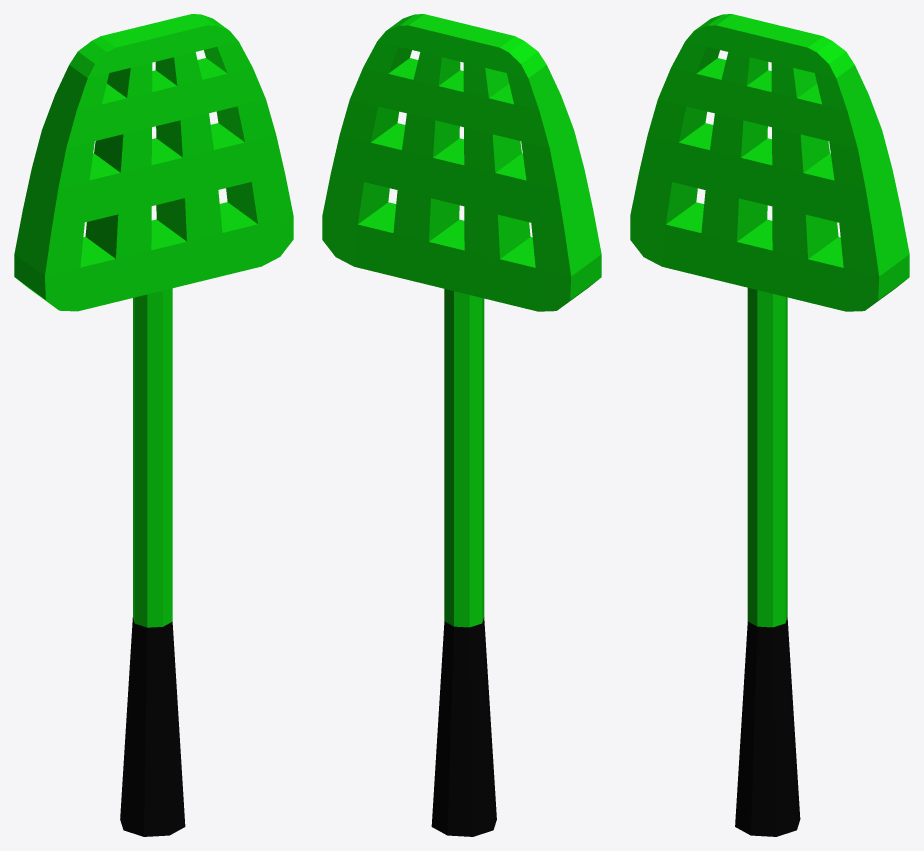
The model's file is Fly swat.fbx.
3 views of the same model, side by side, from view 1: azimuth 30°, elevation 25°; view 2: azimuth 150°, elevation 25°; view 3: azimuth 330°, elevation 25° (orthographic).
Parts seen in each view (by area): view 1: Cylinder; view 2: Cylinder; view 3: Cylinder.
Boxes of the visible parts, x1,y1,x2,y2 form: Cylinder: (14,14,293,836); Cylinder: (322,14,601,836); Cylinder: (630,14,909,836).
Size of the model in its own units: 851 by 2587 by 200.
